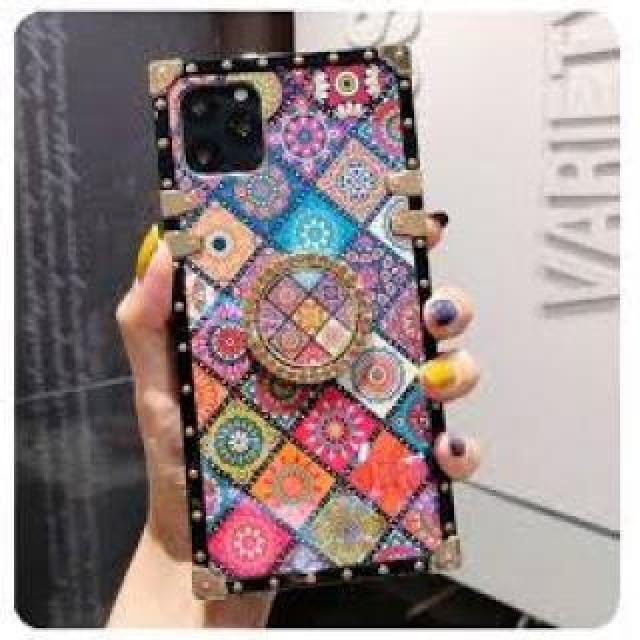smart phone: (140, 50, 493, 583)
